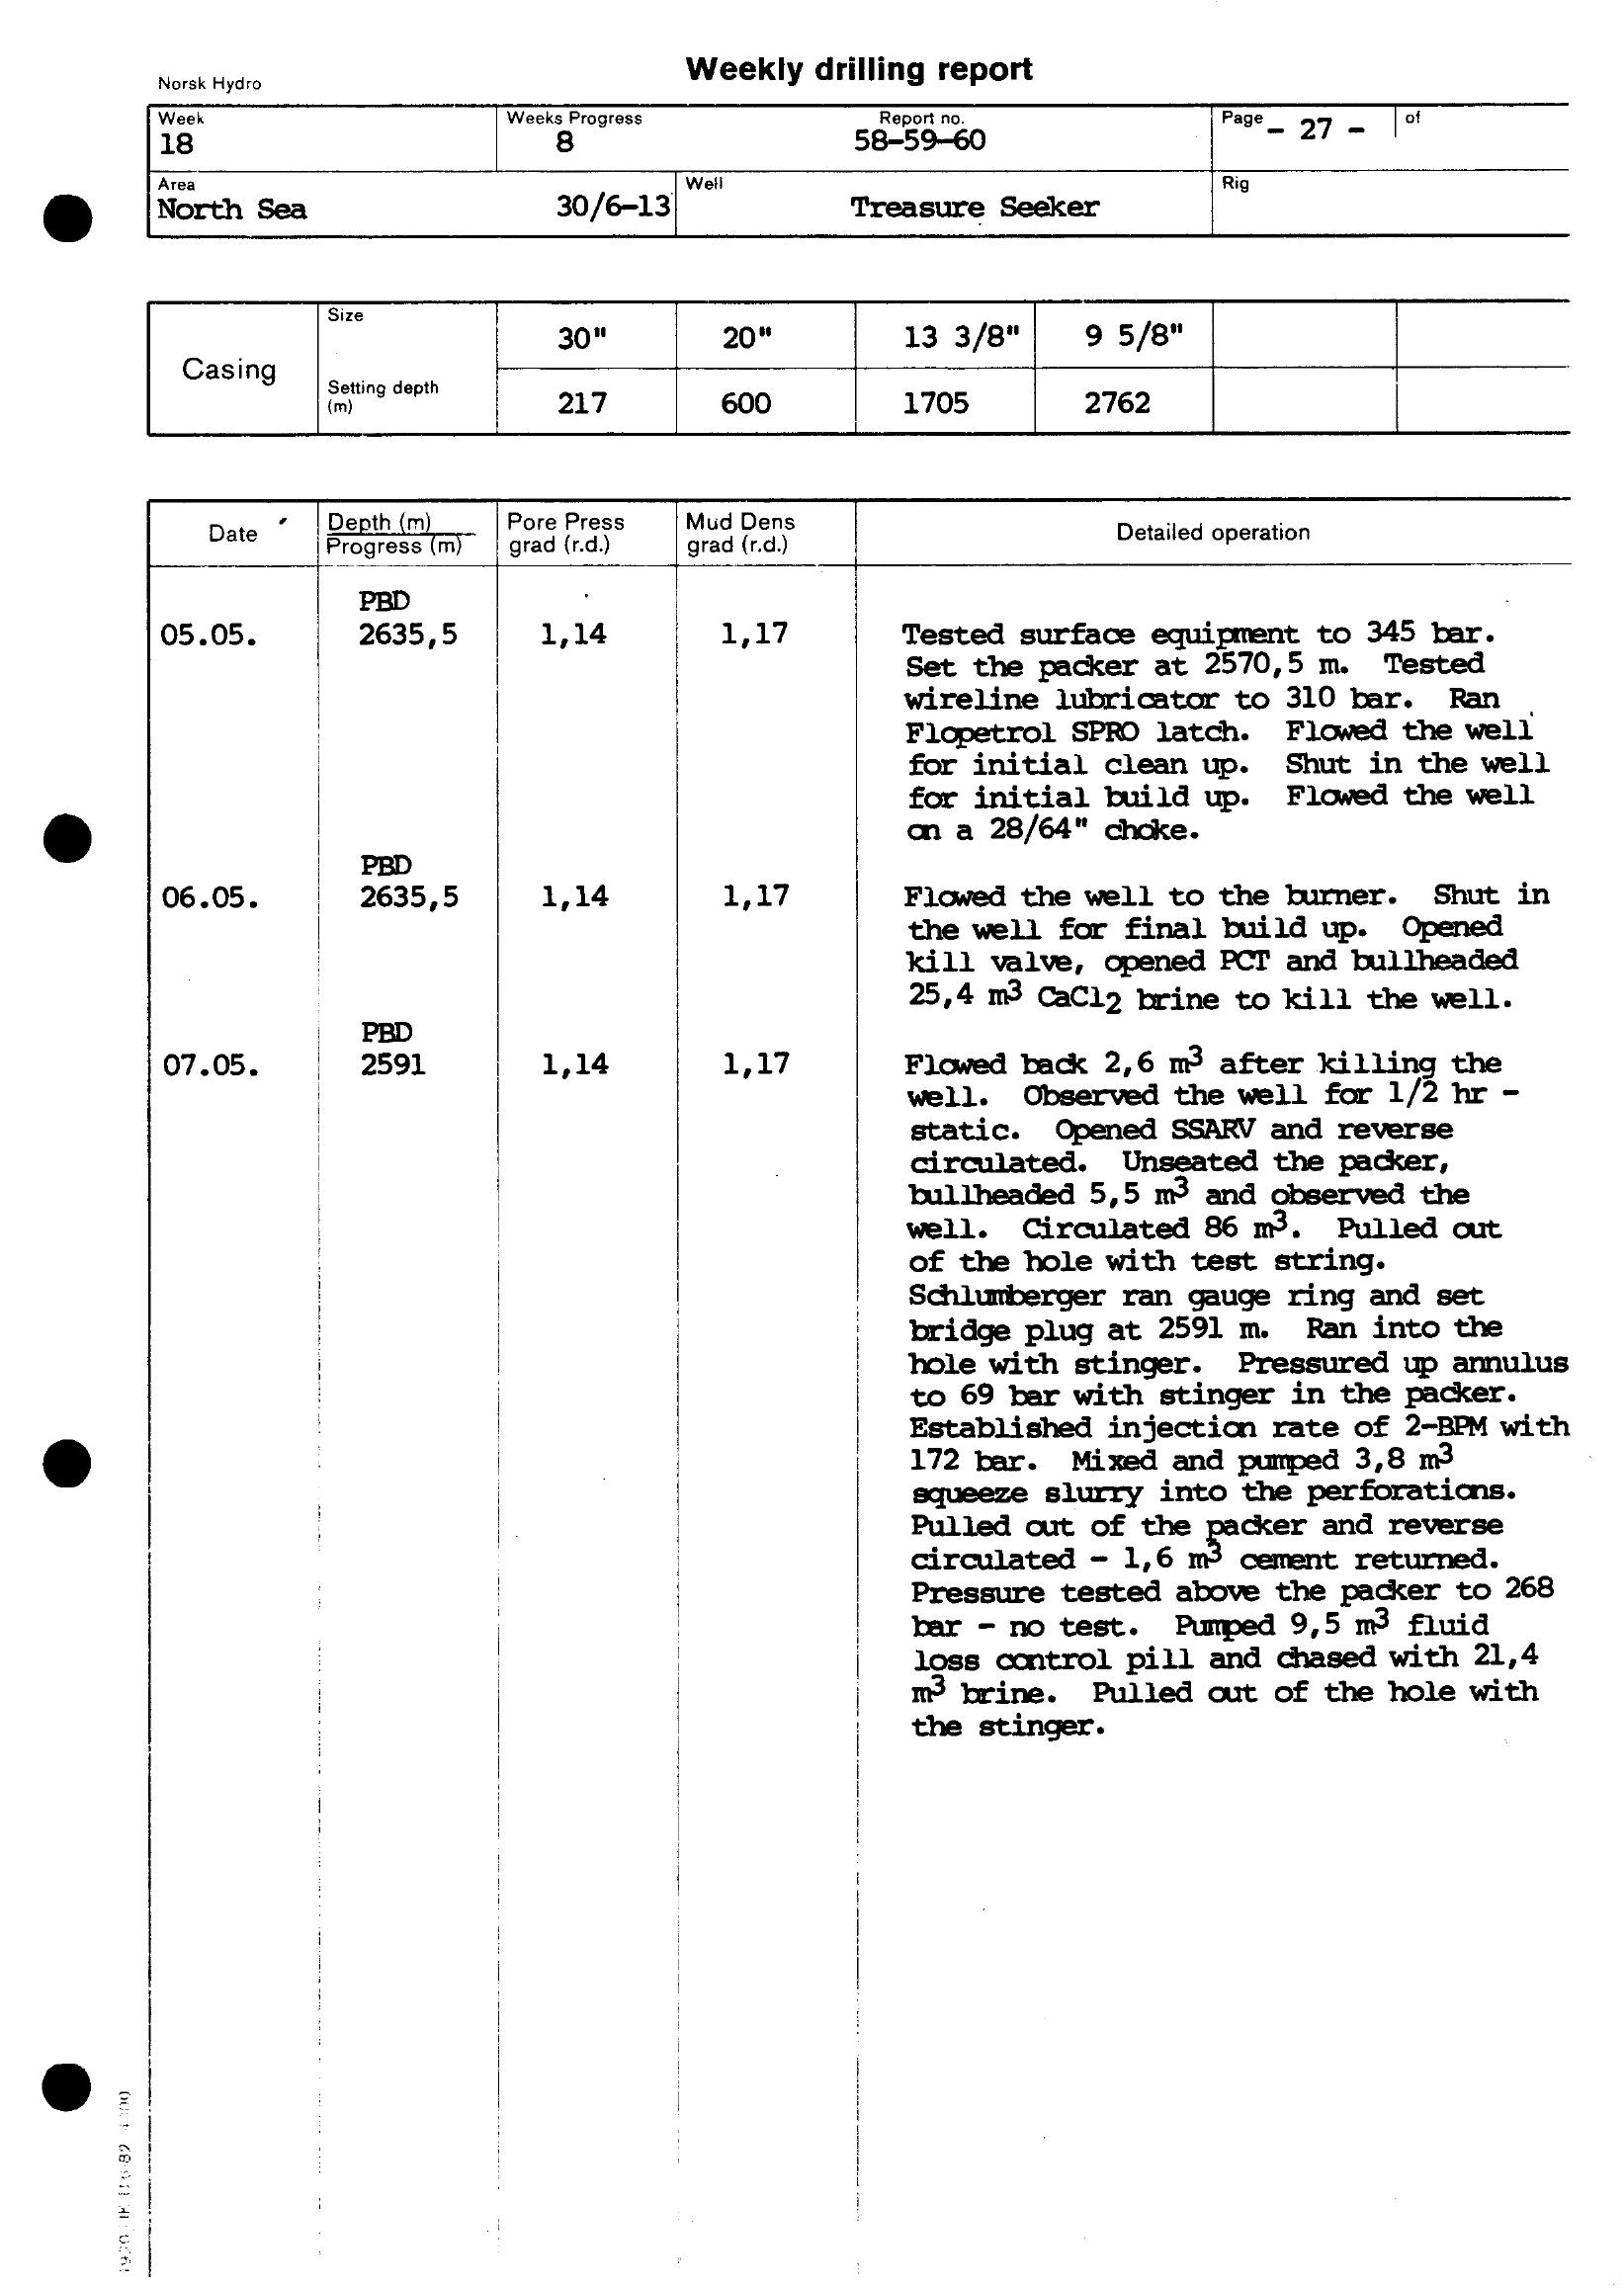graph: (144, 74, 1624, 1792)
text: (638, 37, 1056, 114)
